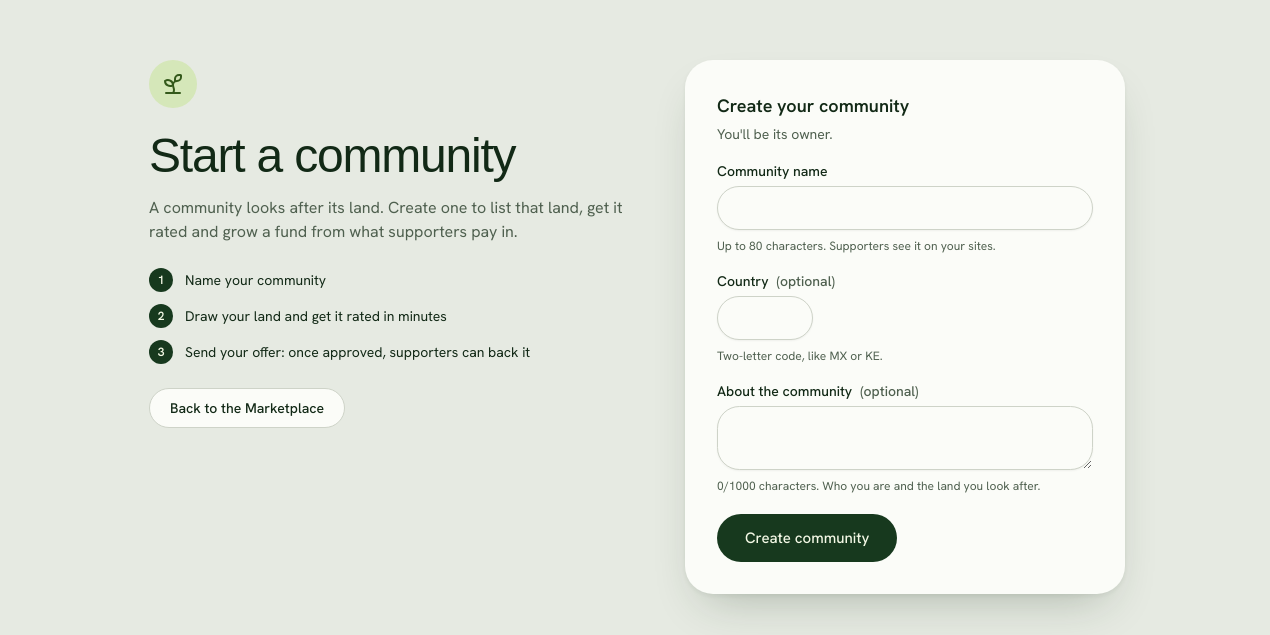
creating a community › creates it, refreshes the account's communities and shows it
This screenshot has width=1270, height=635.
Expected: the heading "Start a community" is shown, [149,129,515,182]
Type "  Río   Verde " into the field labelled "Community name" at (905, 208), box [717,186,1093,230]
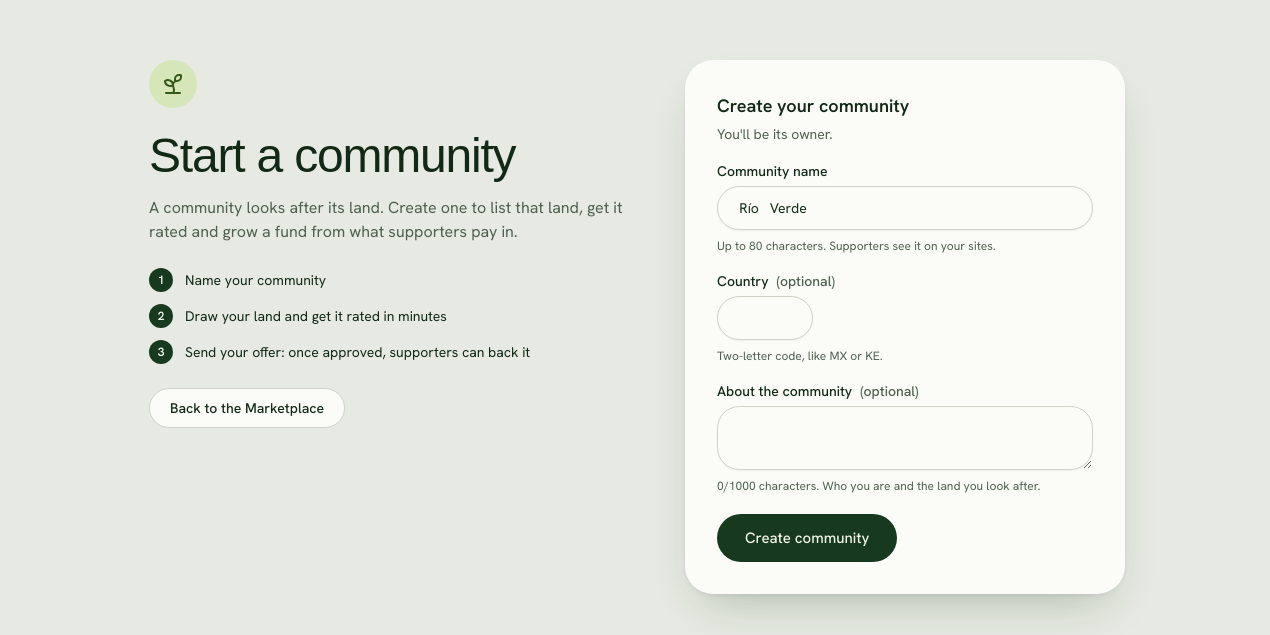
Type "mx" into the field labelled "Country (optional)" at (765, 318), box [717,296,813,340]
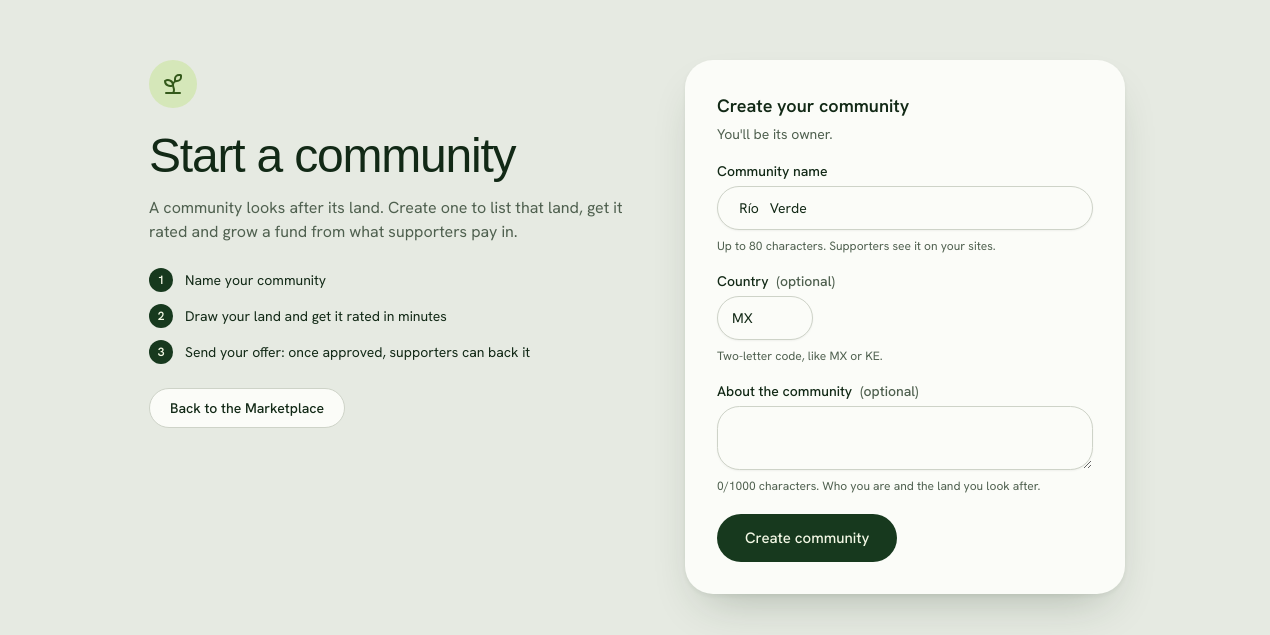
Type "Mangrove keepers." into the text box labelled "About the community (optional)" at (905, 438), box [717,406,1093,470]
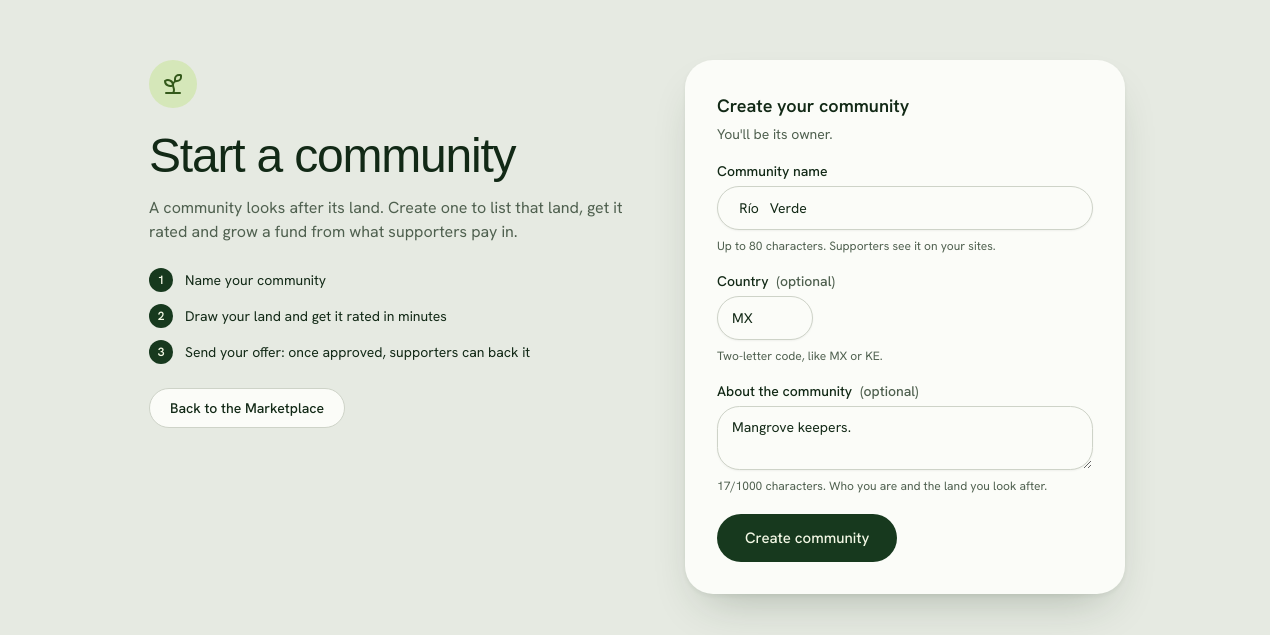
Click the button "Create community" at (807, 538), box [717,514,897,562]
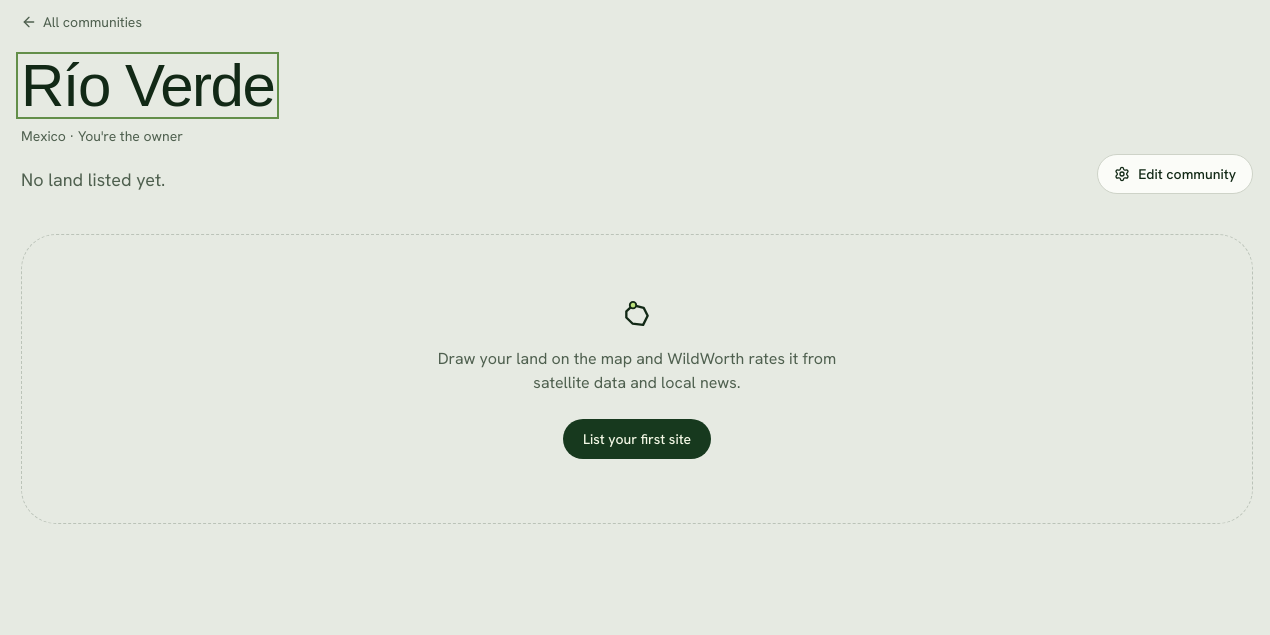
Expected: the heading "Río Verde" is shown, [21,57,274,114]
